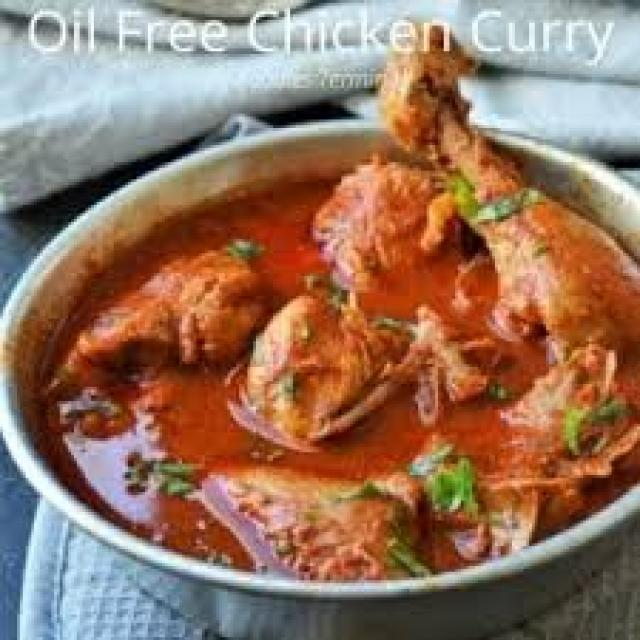Frango: (48, 31, 640, 586)
